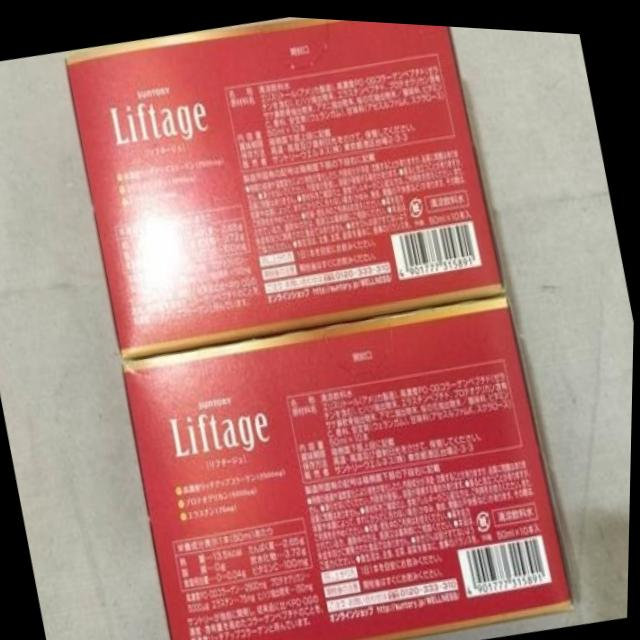box: (122, 291, 578, 640), (64, 14, 508, 357)
